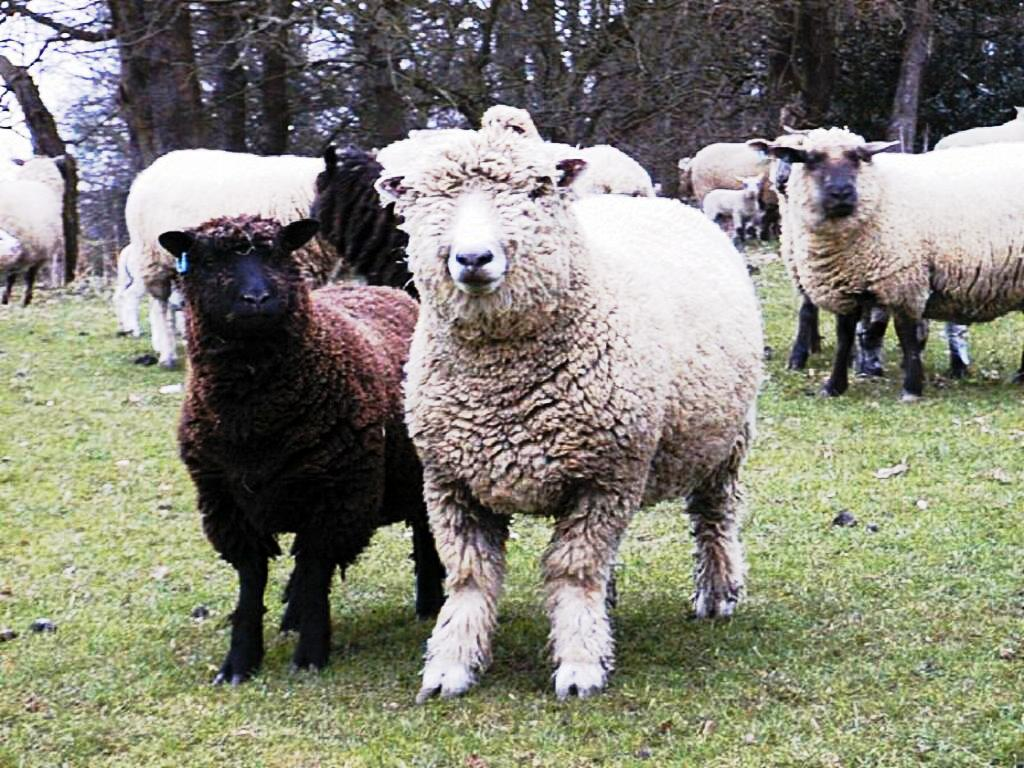Sheep: (376, 140, 792, 720), (151, 205, 414, 685), (748, 121, 1024, 404), (103, 142, 397, 354), (0, 152, 76, 308), (697, 175, 769, 243)
